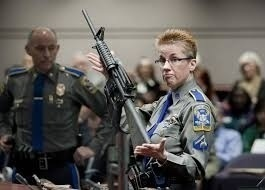pistol: (84, 5, 163, 165)
